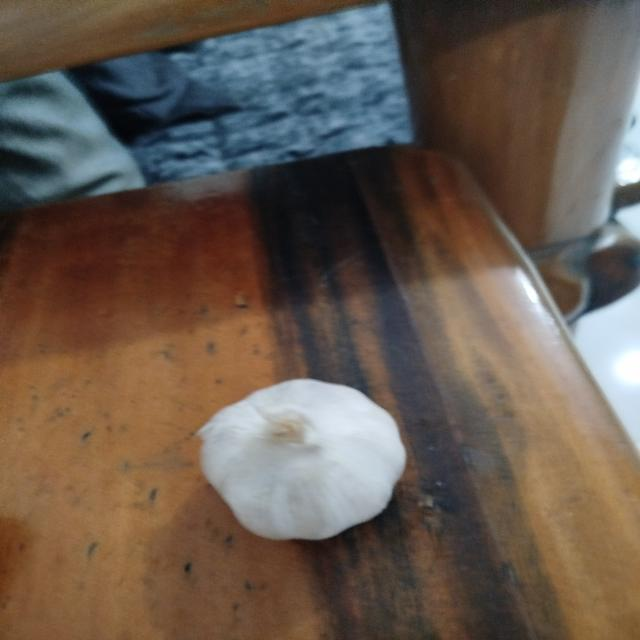garlic: (193, 377, 407, 541)
